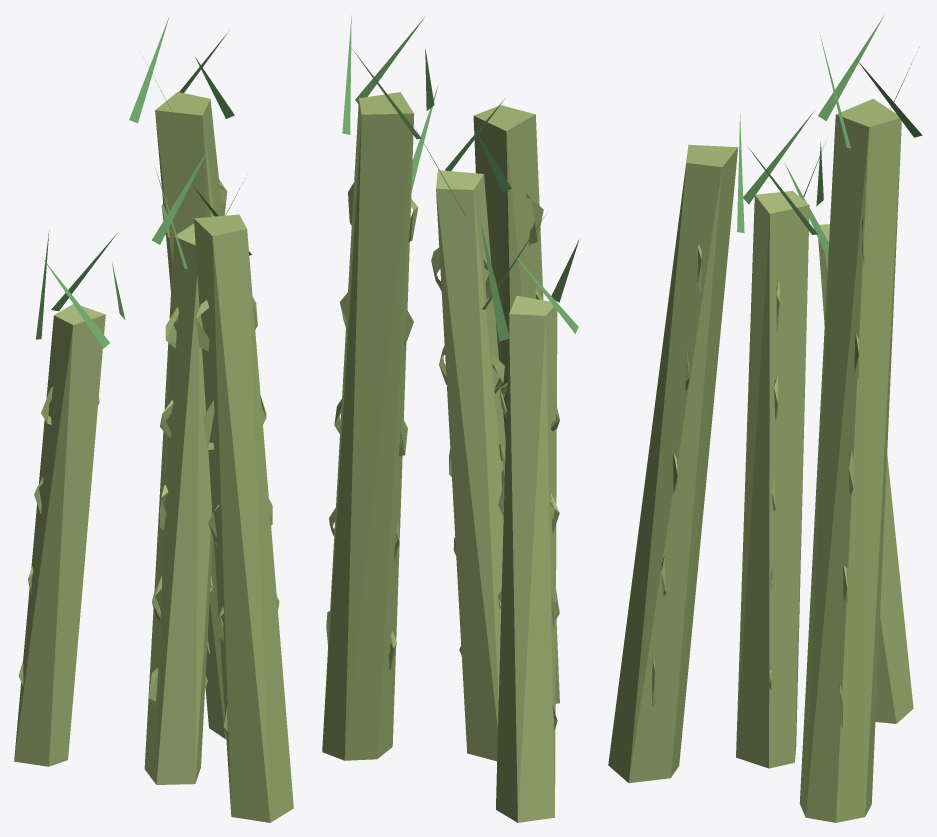
File: 50-Vegetacion_canas_bambu.glb
3 renders of one model, left to right at view 1: azimuth 30°, elevation 25°; view 2: azimuth 150°, elevation 25°; view 3: azimuth 270°, elevation 25°, orthographic. The views are drawn at different scales.
Parts seen in each view (by area): view 1: SM_Cana_M_Bambu_A, SM_Cana_M_Bambu_B, SM_Cana_M_Hoja_Bambu; view 2: SM_Cana_M_Bambu_A, SM_Cana_M_Bambu_B, SM_Cana_M_Hoja_Bambu; view 3: SM_Cana_M_Bambu_B, SM_Cana_M_Bambu_A, SM_Cana_M_Hoja_Bambu.
Boxes of the visible parts, x1=… form: SM_Cana_M_Bambu_A: x1=14, y1=224, x2=213, y2=784; SM_Cana_M_Bambu_B: x1=155, y1=92, x2=293, y2=822; SM_Cana_M_Hoja_Bambu: x1=36, y1=16, x2=251, y2=348; SM_Cana_M_Bambu_A: x1=431, y1=170, x2=559, y2=822; SM_Cana_M_Bambu_B: x1=322, y1=92, x2=559, y2=760; SM_Cana_M_Hoja_Bambu: x1=342, y1=15, x2=579, y2=341; SM_Cana_M_Bambu_B: x1=608, y1=98, x2=901, y2=822; SM_Cana_M_Bambu_A: x1=736, y1=191, x2=913, y2=768; SM_Cana_M_Hoja_Bambu: x1=737, y1=15, x2=922, y2=259.
Bounding box in the file's own units: 0.5932 × 1.65 × 0.6306.
